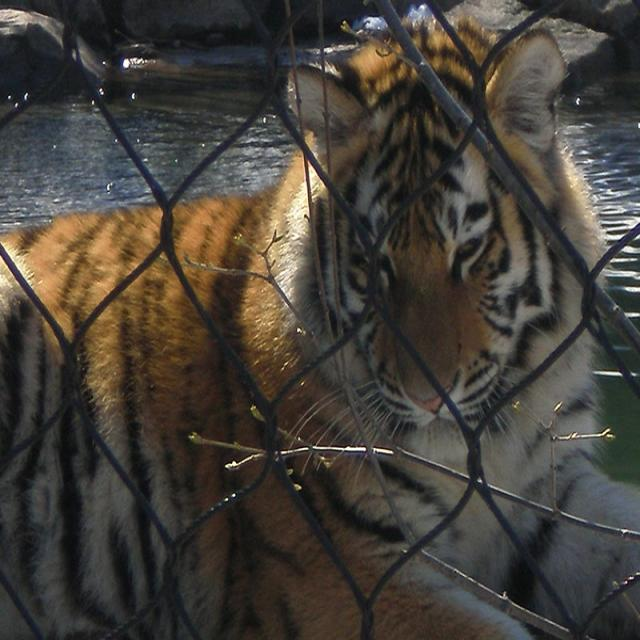Tiger: (0, 27, 634, 632)
